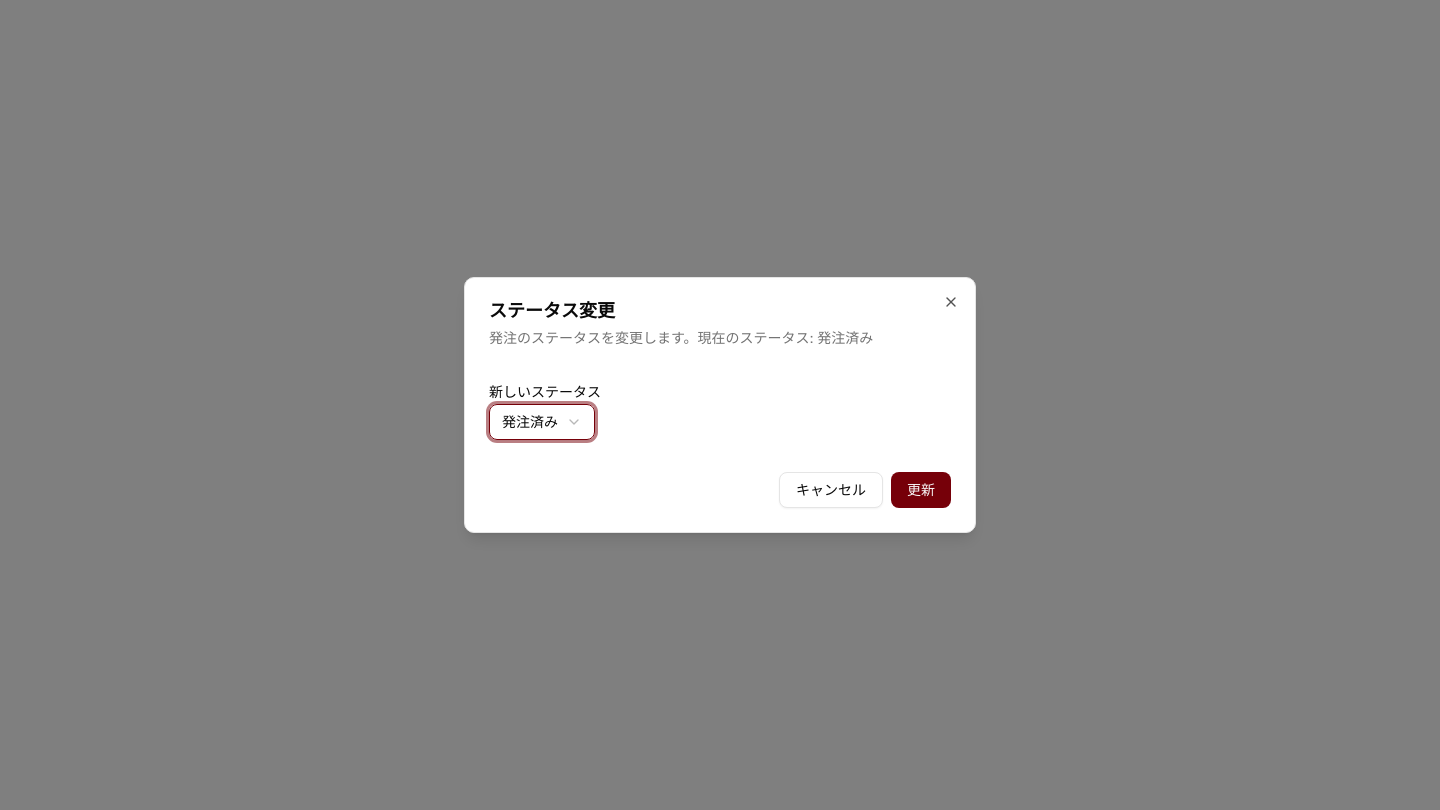
Scenario: OrderStatusUpdateDialog › Japanese labels › displays Japanese status labels
This screenshot has width=1440, height=810.
What coordinates should you click on to do the following:
click the dropdown
I would click on:
 (542, 422)
Its box is [489, 404, 595, 440].
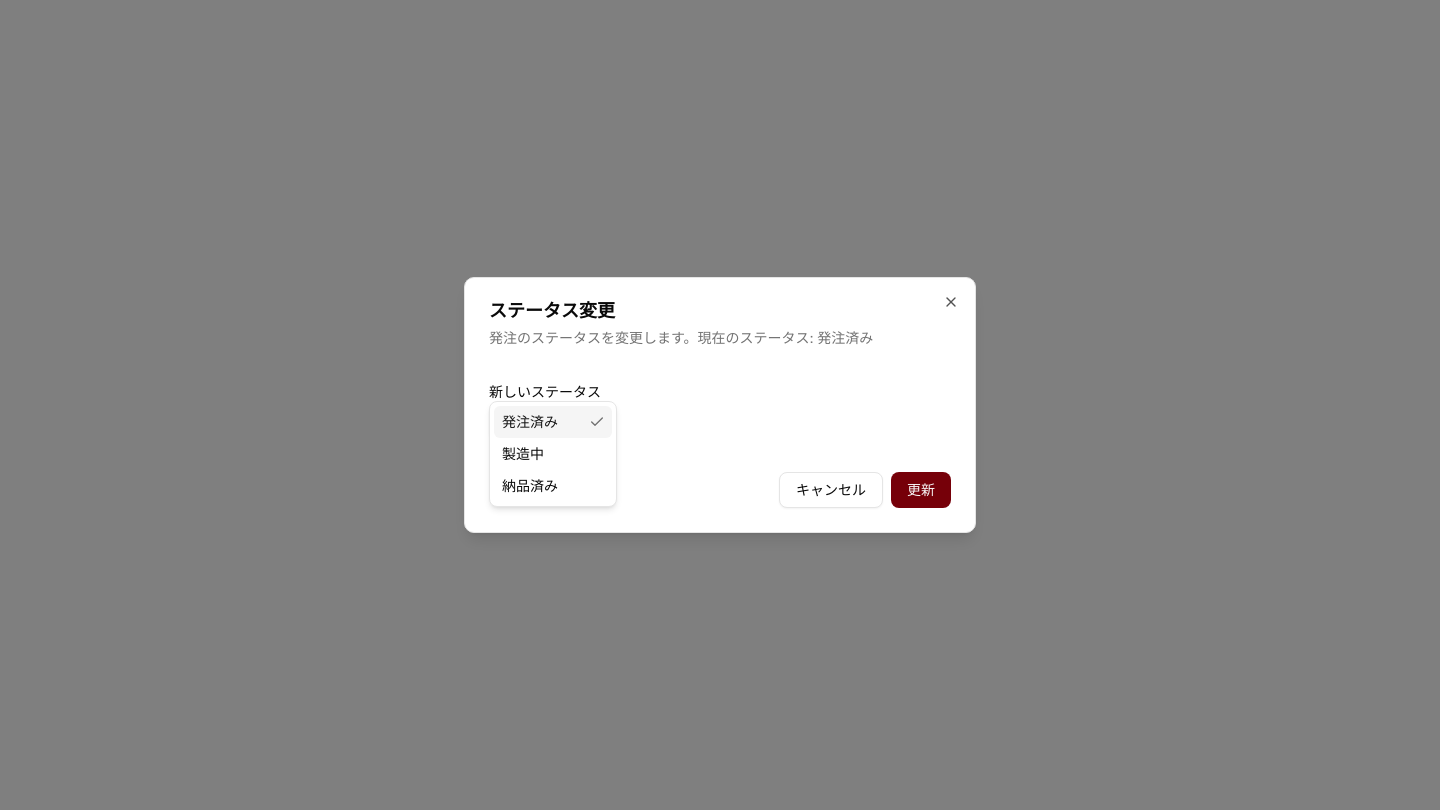
Check: the text "納品済み" is shown, box [502, 476, 558, 496]
